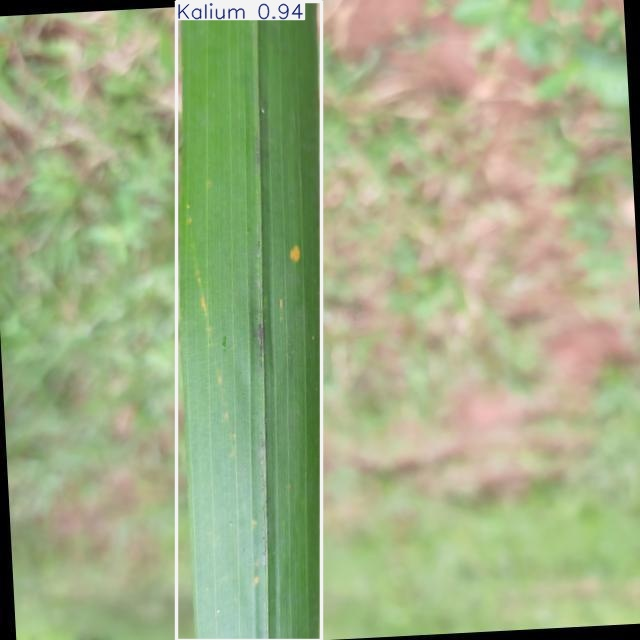Kalium: (177, 1, 322, 640)
